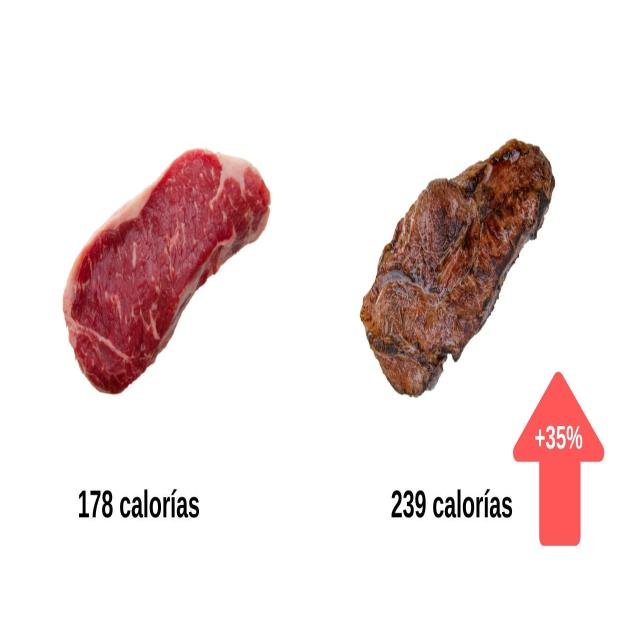carne de cerdo: (356, 120, 558, 410)
